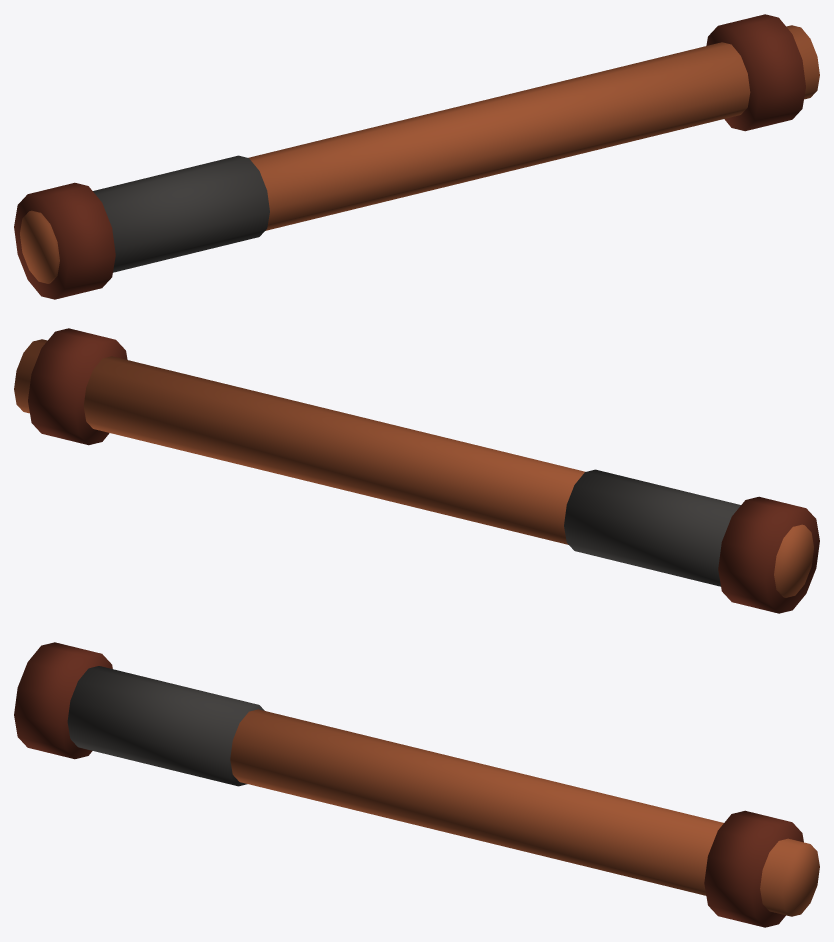
Rendered from held_pipe.glb.
3 renders of one model, top to bottom at view 1: azimuth 30°, elevation 25°; view 2: azimuth 150°, elevation 25°; view 3: azimuth 330°, elevation 25°, orthographic.
Visible parts, largest first — view 1: pipe, grip, coupling_-6, coupling_46; view 2: pipe, grip, coupling_-6, coupling_46; view 3: pipe, grip, coupling_46, coupling_-6.
Boxes of the visible parts, x1,y1,x2,y2 form: pipe: (20, 25, 819, 283); grip: (93, 155, 269, 272); coupling_-6: (14, 182, 115, 299); coupling_46: (706, 14, 805, 131); pipe: (14, 339, 813, 597); grip: (564, 469, 740, 586); coupling_-6: (718, 496, 819, 613); coupling_46: (28, 328, 127, 445); pipe: (230, 709, 819, 916); grip: (67, 666, 264, 786); coupling_46: (704, 810, 803, 927); coupling_-6: (14, 642, 112, 759).
Size of the model in its own units: 0.58 by 0.0718 by 0.0718.
